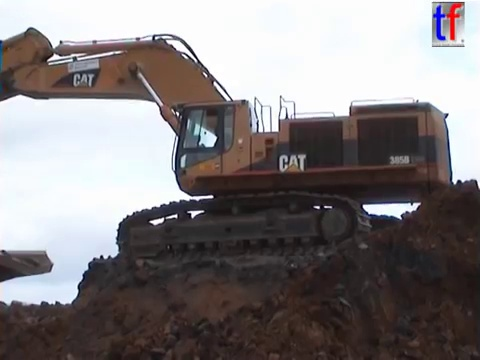excavator: (1, 23, 459, 262)
truck: (1, 244, 56, 285)
